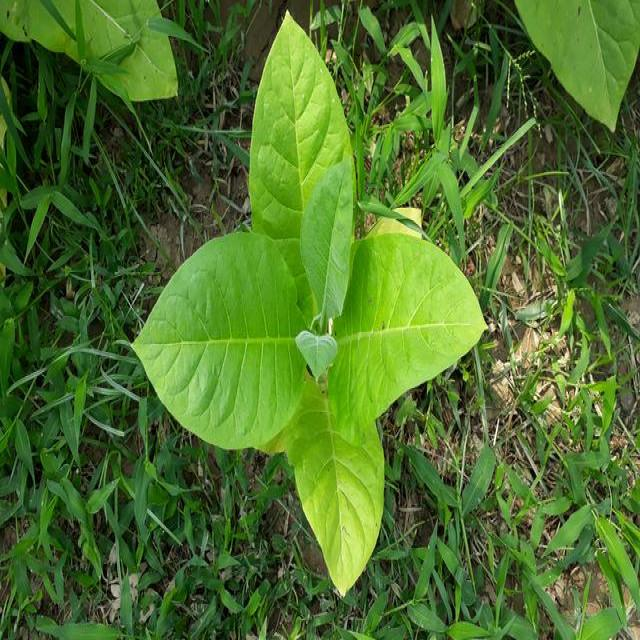crop: (133, 5, 491, 603)
